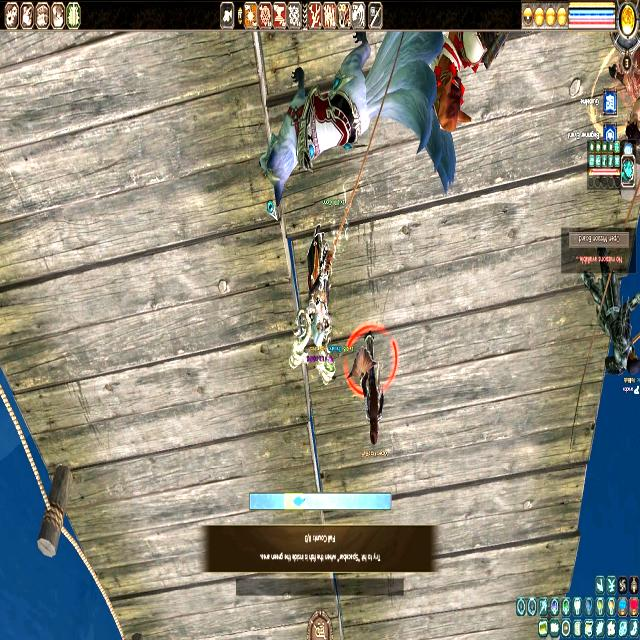fishes: (293, 494, 305, 509)
